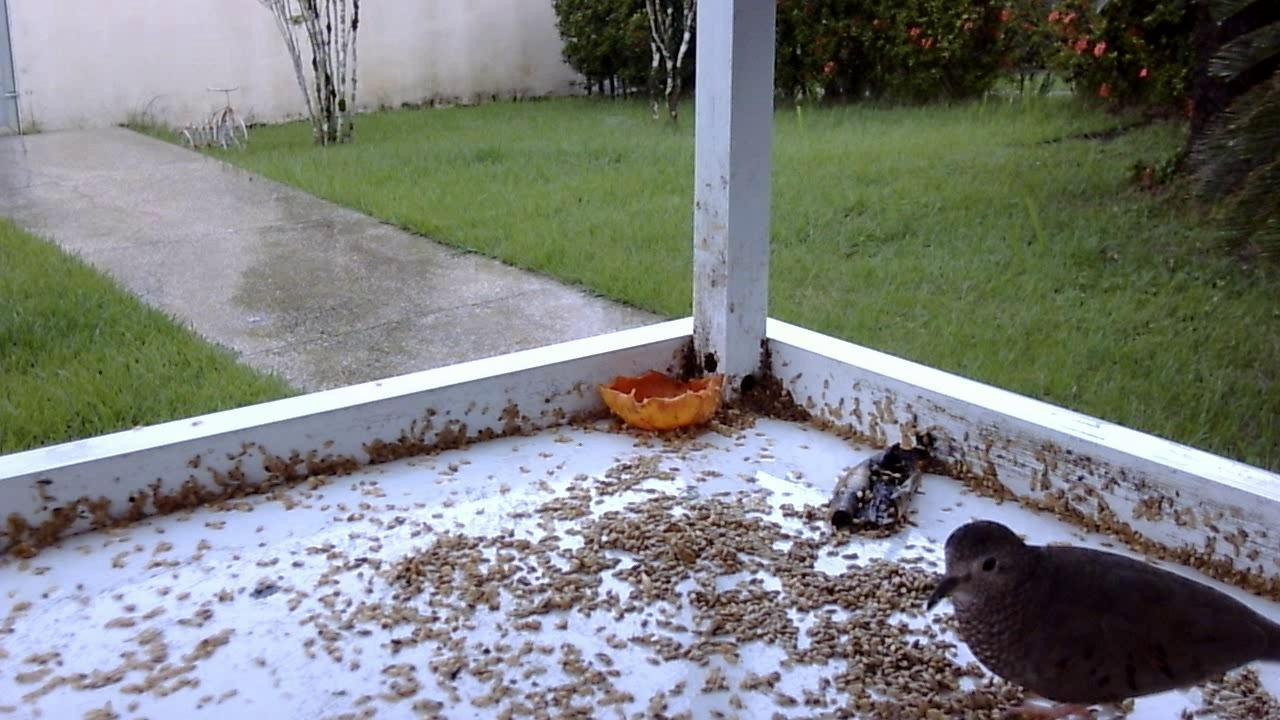rolinha: (909, 508, 1278, 718)
